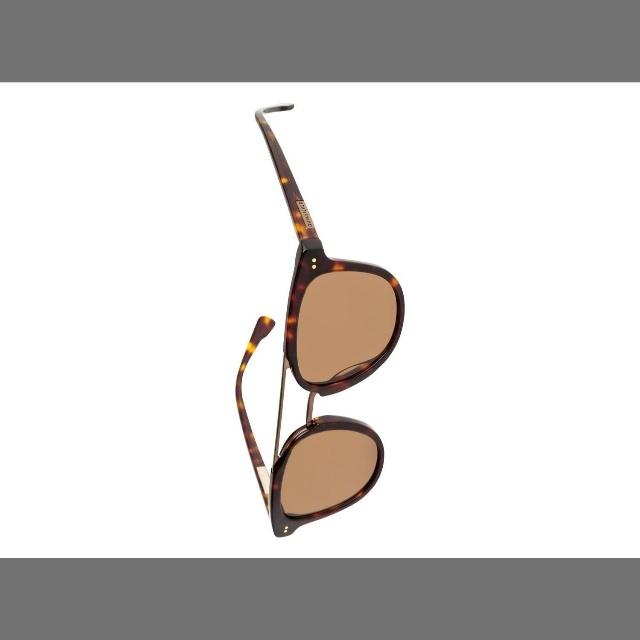Sunglasses: (211, 88, 425, 540)
